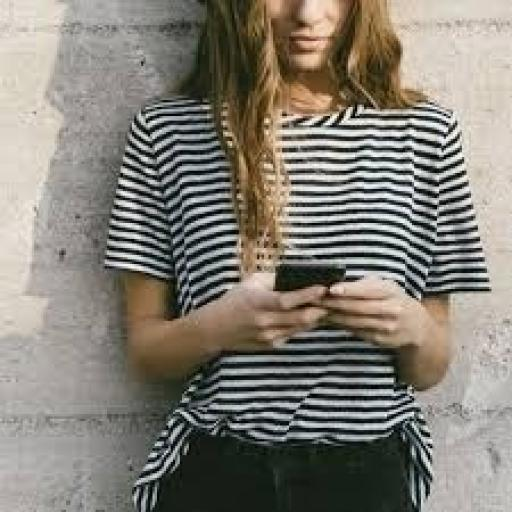texting: (100, 0, 494, 510)
